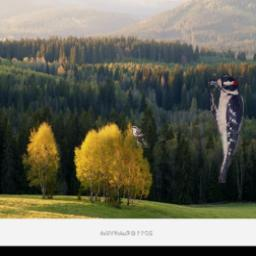Cuckoo: (132, 127, 150, 149)
Woodpecker: (207, 73, 245, 184)
